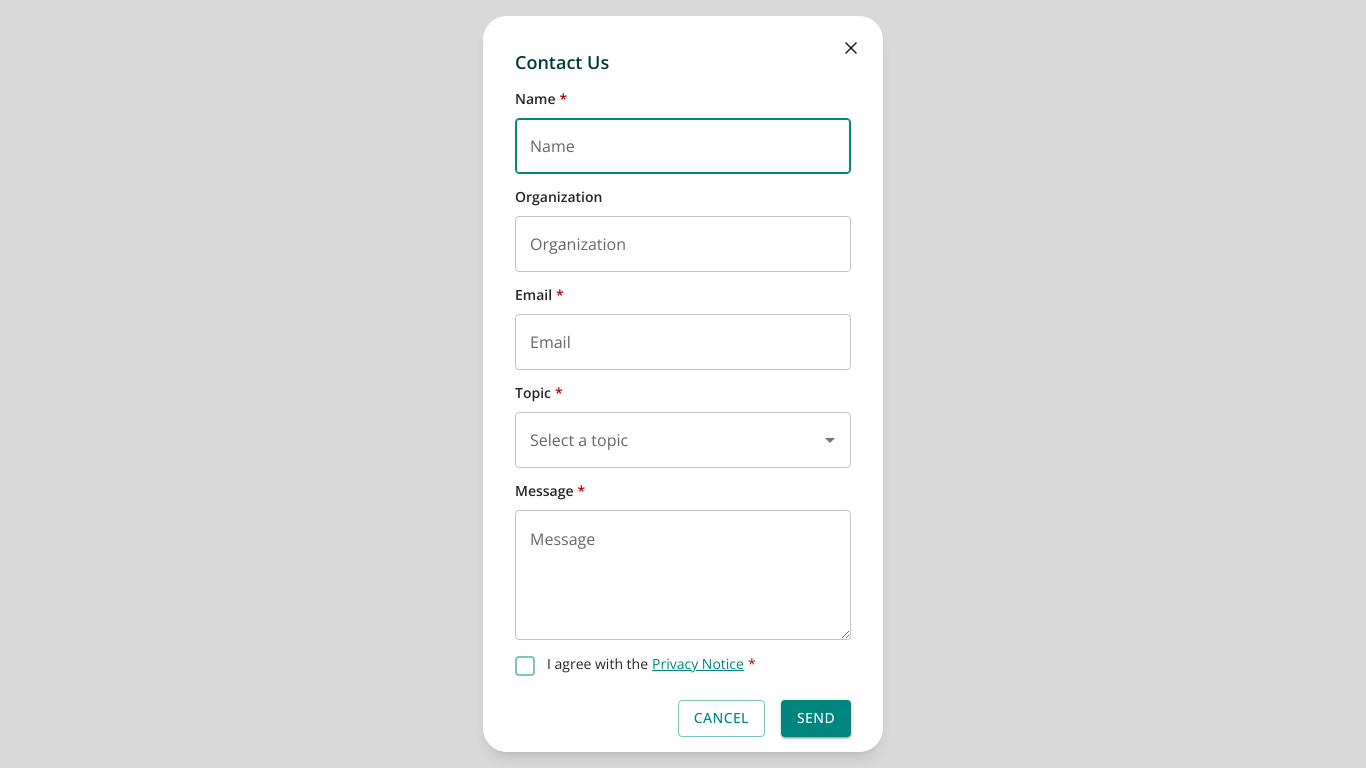
it: ContactForm › lists what is missing, including the topic
What coordinates should you click on to do the following:
click the button "Send"
I would click on:
 (816, 718)
Its box is left=781, top=700, right=851, bottom=736.
(page scrolled)
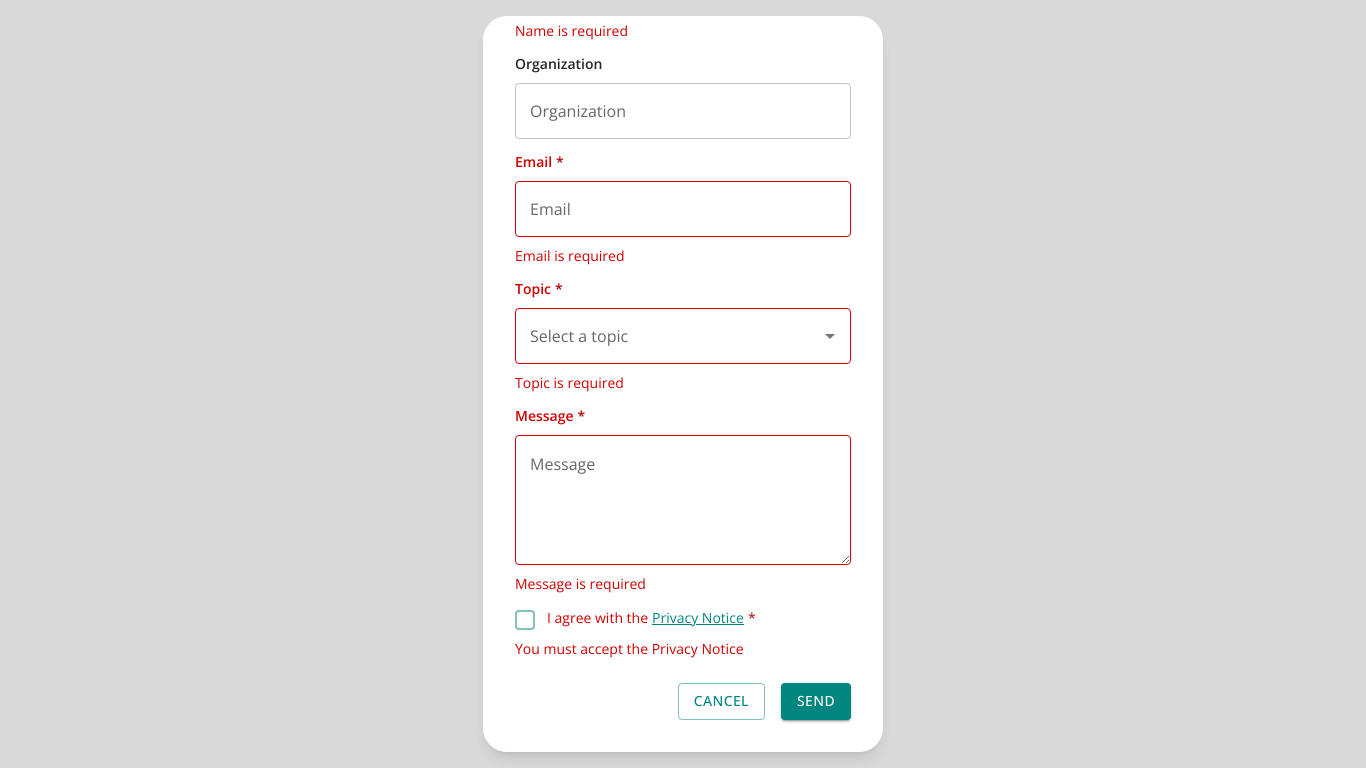
Result: the text "Name is required" is shown at left=515, top=21, right=628, bottom=40
Result: the text "Email is required" is shown at left=515, top=246, right=624, bottom=265
Result: the text "Topic is required" is shown at left=515, top=373, right=624, bottom=392
